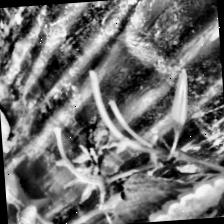Gray Mold: (58, 111, 116, 210), (0, 92, 12, 149)
